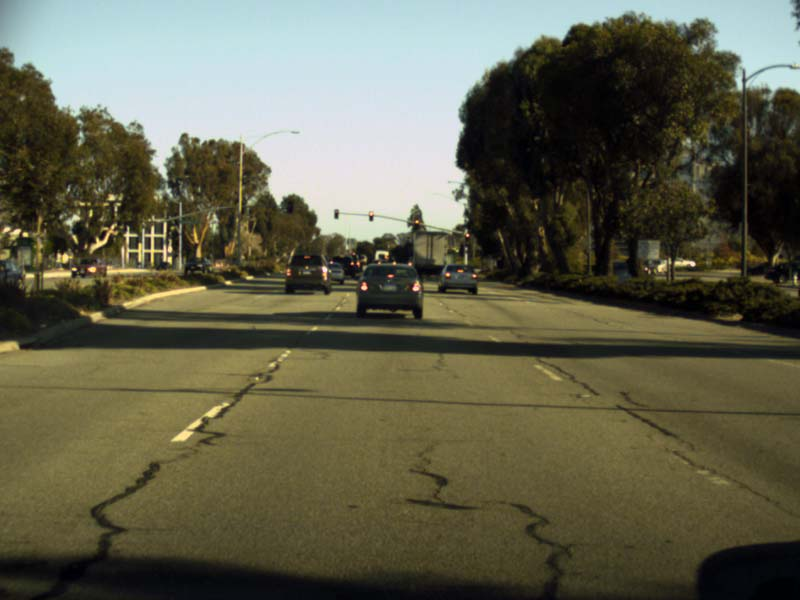Red: (368, 211, 373, 221), (413, 219, 418, 229), (465, 233, 469, 245), (334, 209, 337, 218)
